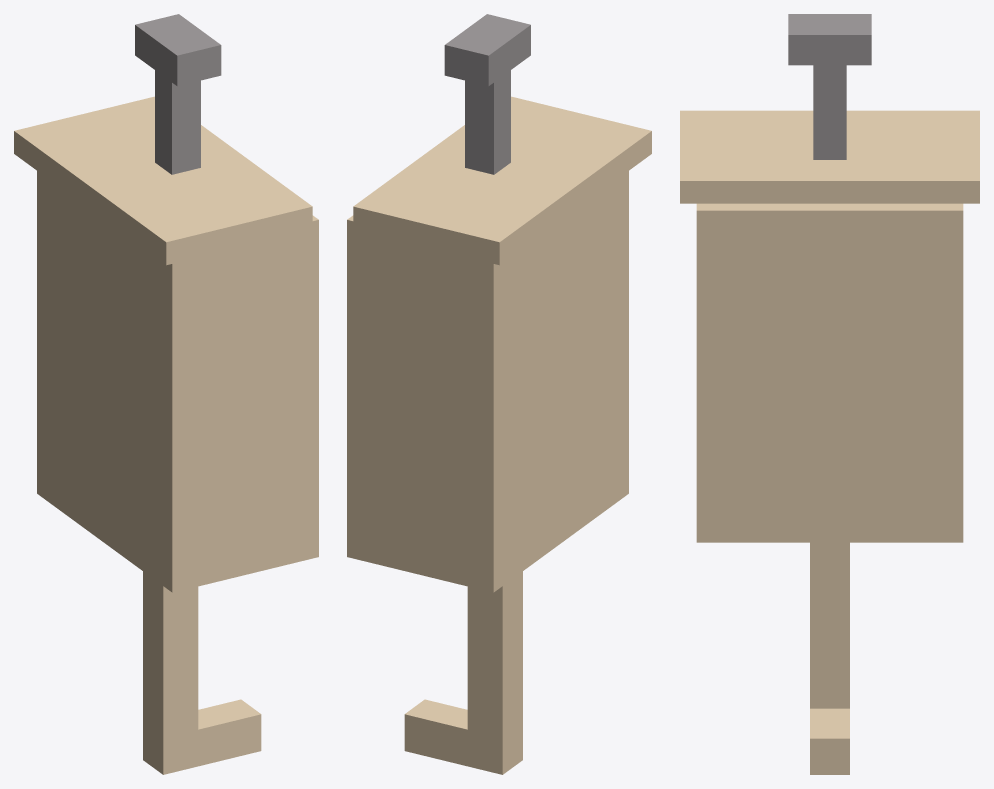
File: SM_Fixture_ServiceBoxSide_L_01.gltf
The picture shows the model from 3 angles, left to right: view 1: azimuth 30°, elevation 25°; view 2: azimuth 150°, elevation 25°; view 3: azimuth 270°, elevation 25°; orthographic projection.
Parts seen in each view (by area): view 1: SM_Fixture_ServiceBoxSide_L_01; view 2: SM_Fixture_ServiceBoxSide_L_01; view 3: SM_Fixture_ServiceBoxSide_L_01.
Part boxes in pixels (x1,y1,x2,y2): SM_Fixture_ServiceBoxSide_L_01: [14, 14, 318, 774]; SM_Fixture_ServiceBoxSide_L_01: [347, 14, 651, 774]; SM_Fixture_ServiceBoxSide_L_01: [680, 14, 979, 774].
Size of the model in its own units: 0.11 by 0.474 by 0.18.
Materials: 1 (1 with a texture image).
